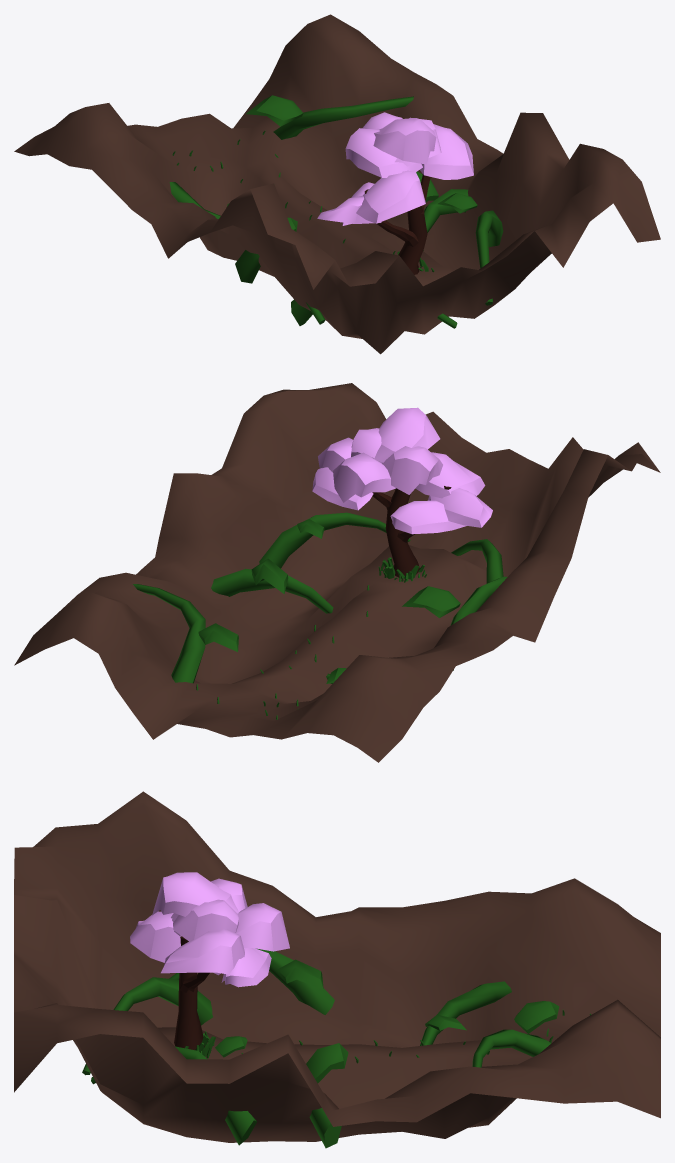
Rendered from fintemple2.FBX.
3 views of the same model, one above another, from view 1: azimuth 30°, elevation 25°; view 2: azimuth 150°, elevation 25°; view 3: azimuth 270°, elevation 25° (orthographic). The views are drawn at different scales.
Parts seen in each view (by area): view 1: Cylinder001, Object001; view 2: Cylinder001, Object001; view 3: Cylinder001, Object001.
Boxes of the visible parts, x1,y1,x2,y2 form: Cylinder001: (14,14,660,354); Object001: (317,112,473,225); Cylinder001: (14,383,660,762); Object001: (312,407,492,534); Cylinder001: (14,791,660,1148); Object001: (130,872,289,987).
Size of the model in its own units: 99.69 by 56.88 by 134.
